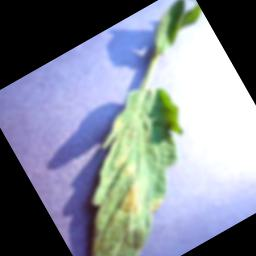Leaf_Mold: (108, 176, 153, 223), (143, 194, 165, 214)
